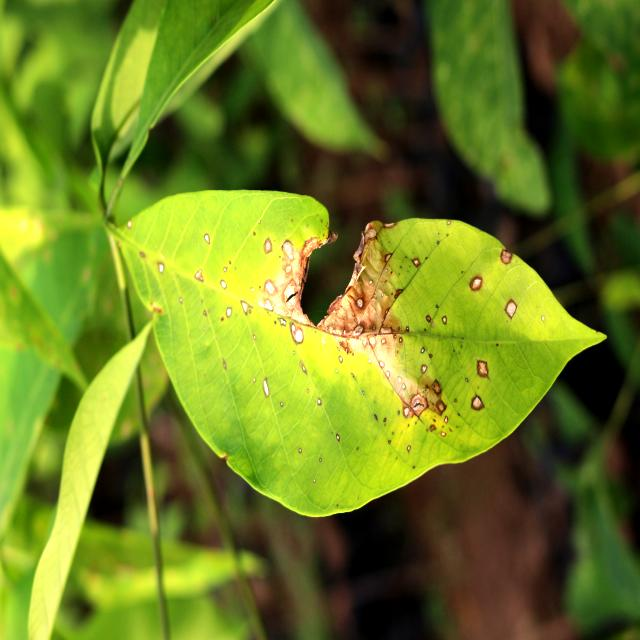Colletotrichum: (504, 299, 518, 320), (476, 360, 488, 379), (470, 275, 482, 292), (500, 250, 513, 264), (472, 396, 484, 410), (438, 402, 445, 412), (422, 364, 428, 374), (404, 407, 409, 418), (442, 315, 447, 325), (413, 259, 420, 266), (426, 315, 431, 323), (379, 361, 384, 368), (336, 434, 340, 442), (420, 347, 425, 353), (381, 338, 386, 344), (444, 416, 448, 423), (440, 432, 447, 436), (386, 371, 390, 378), (402, 383, 406, 390), (339, 356, 343, 363), (399, 337, 403, 343), (407, 445, 411, 451), (317, 399, 321, 405), (428, 354, 432, 358), (406, 326, 409, 331), (343, 330, 346, 335), (394, 334, 396, 340), (339, 342, 342, 346), (337, 348, 340, 352), (384, 418, 386, 422), (362, 391, 364, 394)
